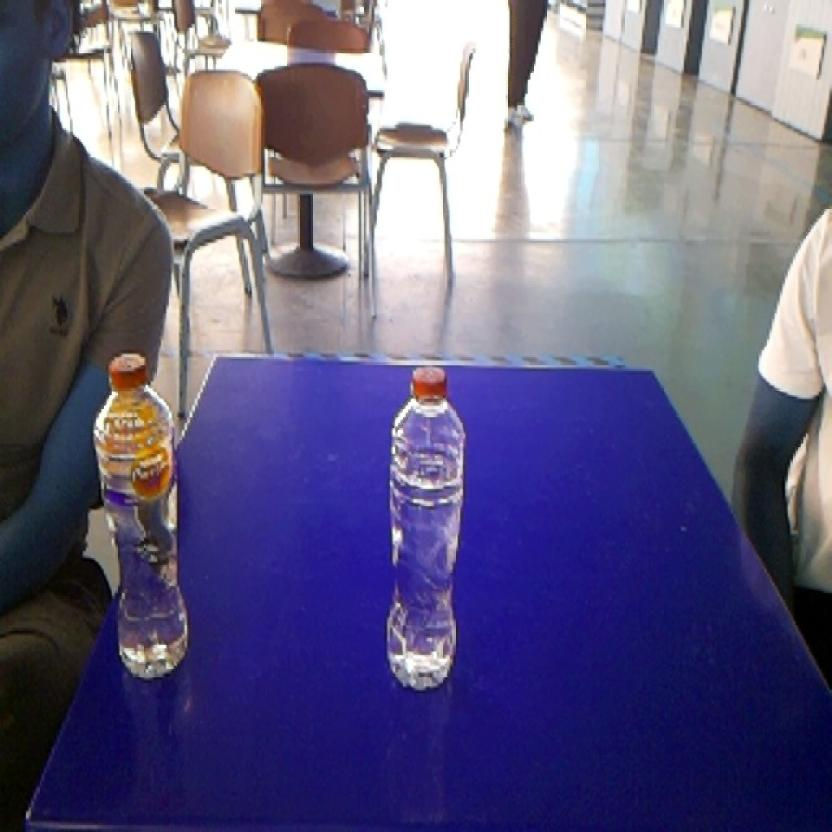no_label: (374, 356, 480, 696)
